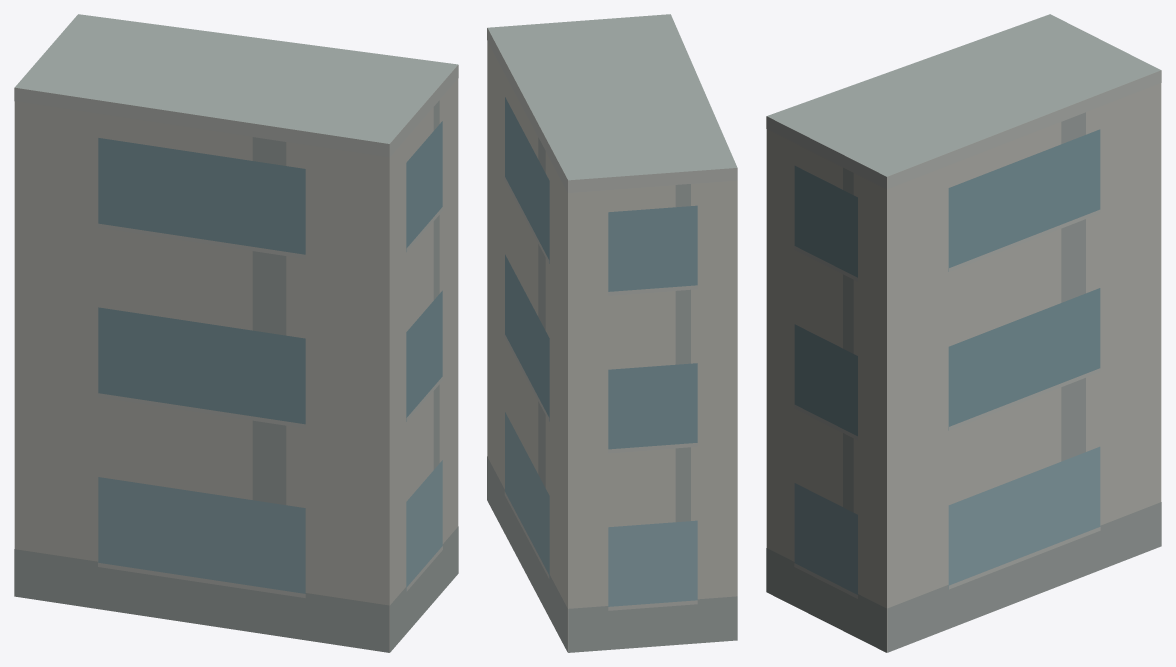
File: survey-upis-33018479.glb
The picture shows the model from 3 angles, left to right: view 1: azimuth 30°, elevation 25°; view 2: azimuth 150°, elevation 25°; view 3: azimuth 270°, elevation 25°; orthographic projection. The views are drawn at different scales.
Parts seen in each view (by area): view 1: survey-upis-33018479.tmp; view 2: survey-upis-33018479.tmp; view 3: survey-upis-33018479.tmp.
Boxes of the visible parts, bbox=[...] form: survey-upis-33018479.tmp: bbox=[14, 14, 458, 652]; survey-upis-33018479.tmp: bbox=[487, 14, 737, 652]; survey-upis-33018479.tmp: bbox=[766, 14, 1161, 652].
Size of the model in its own units: 6.72 by 9.15 by 6.89.
